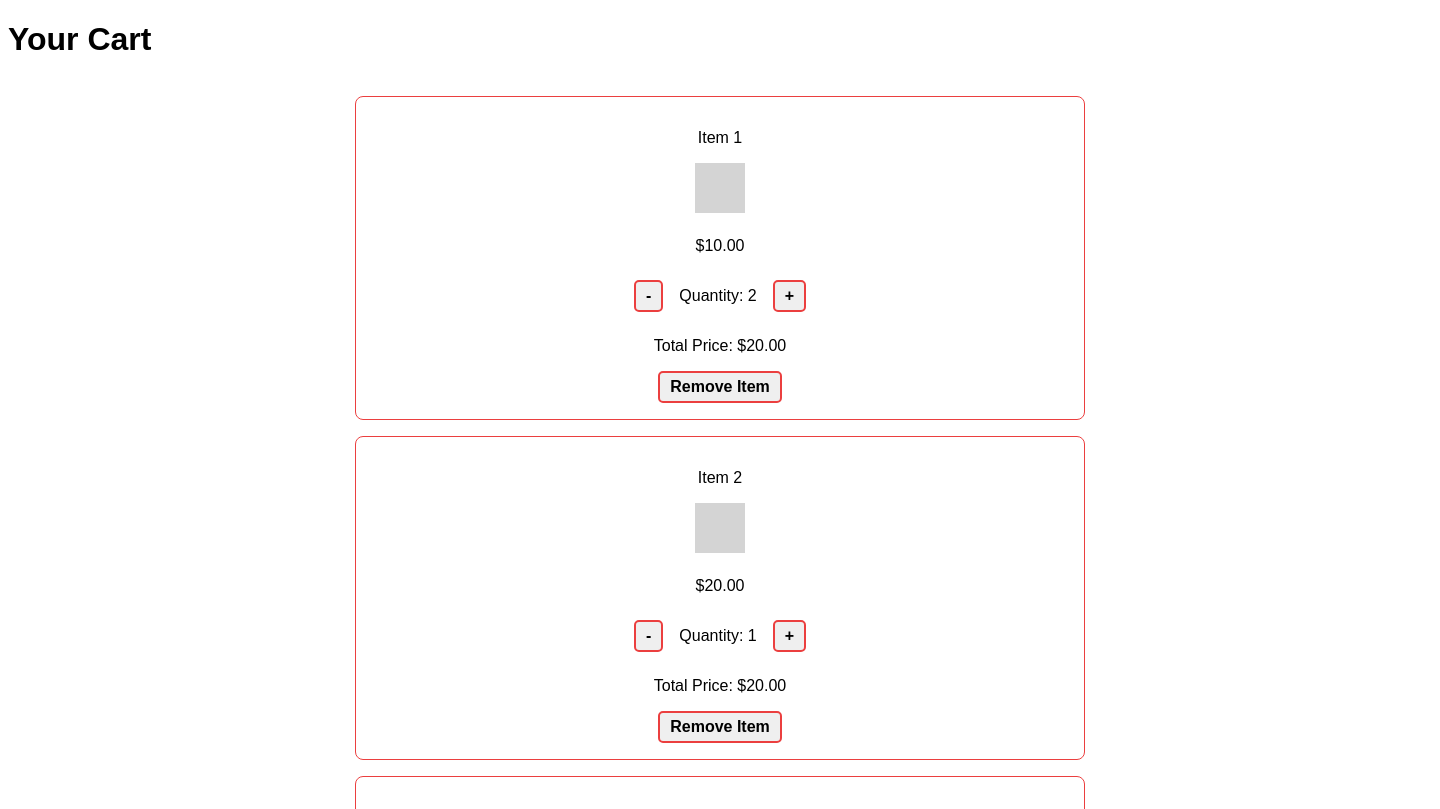
Test: Cart › removes an item from the cart and updates the totals
Click the button "Remove Item" below "Item 2". click: (720, 727)
box: left=658, top=711, right=782, bottom=743
(page scrolled)
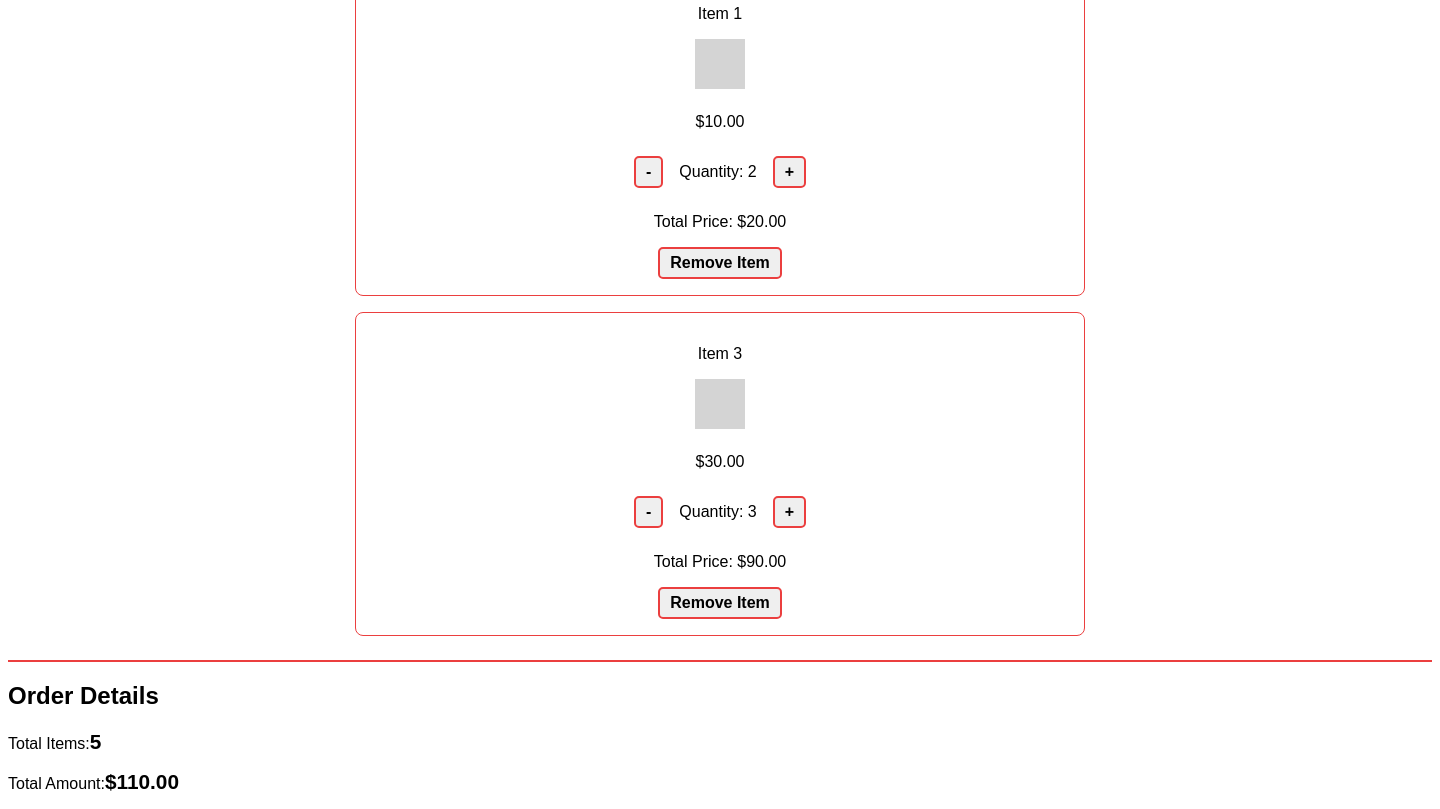
Check: the text "Item 2" is gone
Check: the text "$110.00" is shown, box left=105, top=770, right=179, bottom=793
